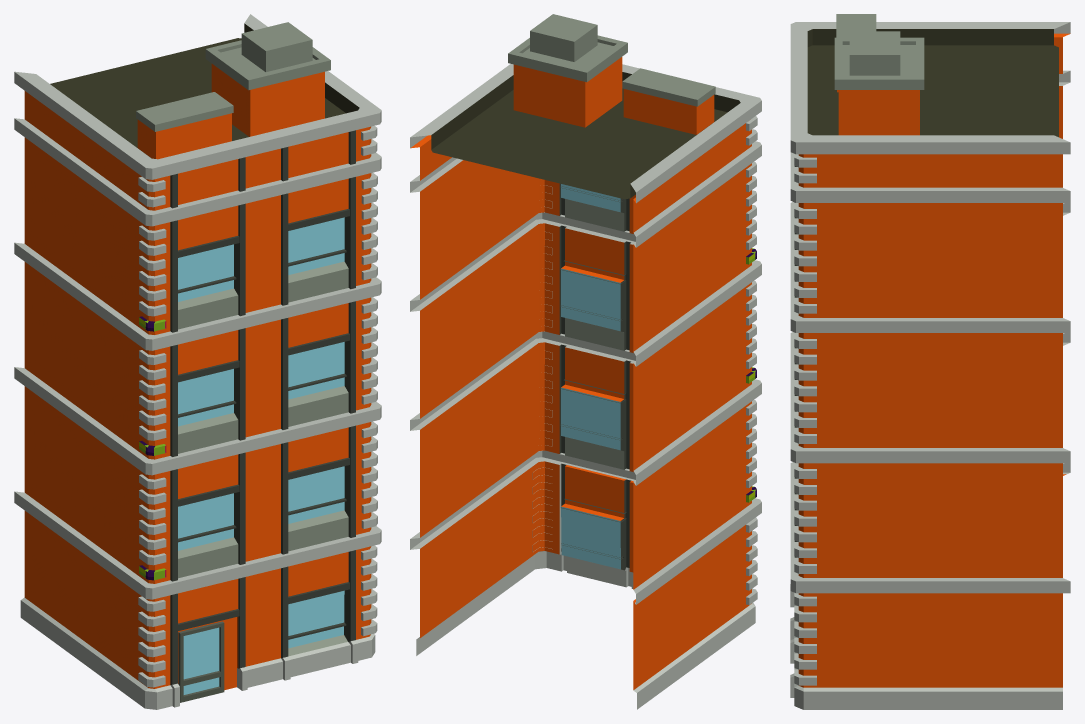
The model's file is House5.3.fbx.
3 renders of one model, left to right at view 1: azimuth 30°, elevation 25°; view 2: azimuth 150°, elevation 25°; view 3: azimuth 270°, elevation 25°, orthographic. The views are drawn at different scales.
Parts seen in each view (by area): view 1: House3.003; view 2: House3.003; view 3: House3.003.
Boxes of the visible parts, left/top/right/bottom form: House3.003: left=14, top=14, right=381, bottom=709; House3.003: left=410, top=14, right=761, bottom=709; House3.003: left=790, top=14, right=1070, bottom=709.
Size of the model in its own units: 795 by 1950 by 782.
Materials: 1 (1 with a texture image).
